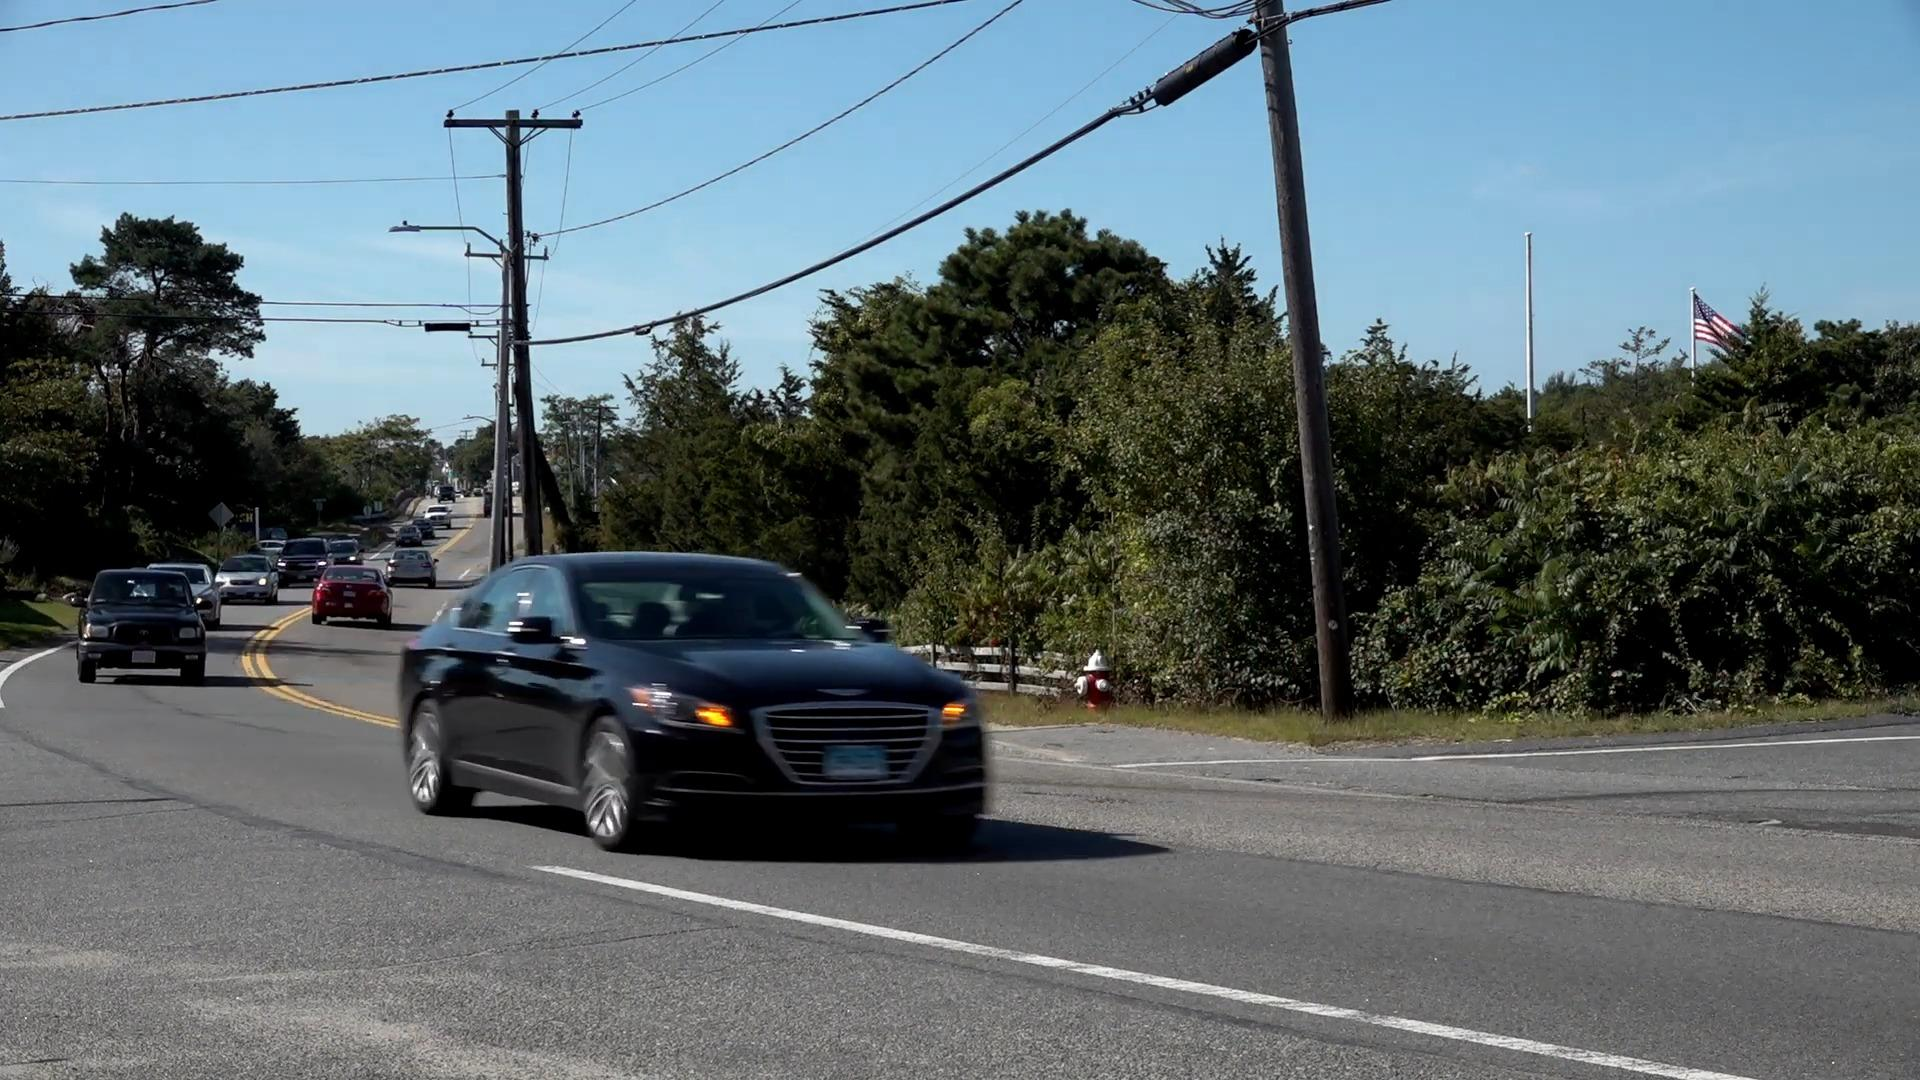sedans: (400, 543, 1001, 856)
suv: (67, 564, 215, 695)
